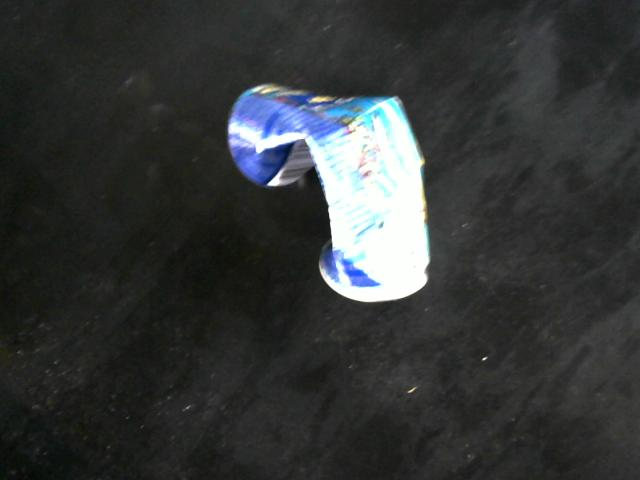can: (219, 75, 443, 307)
